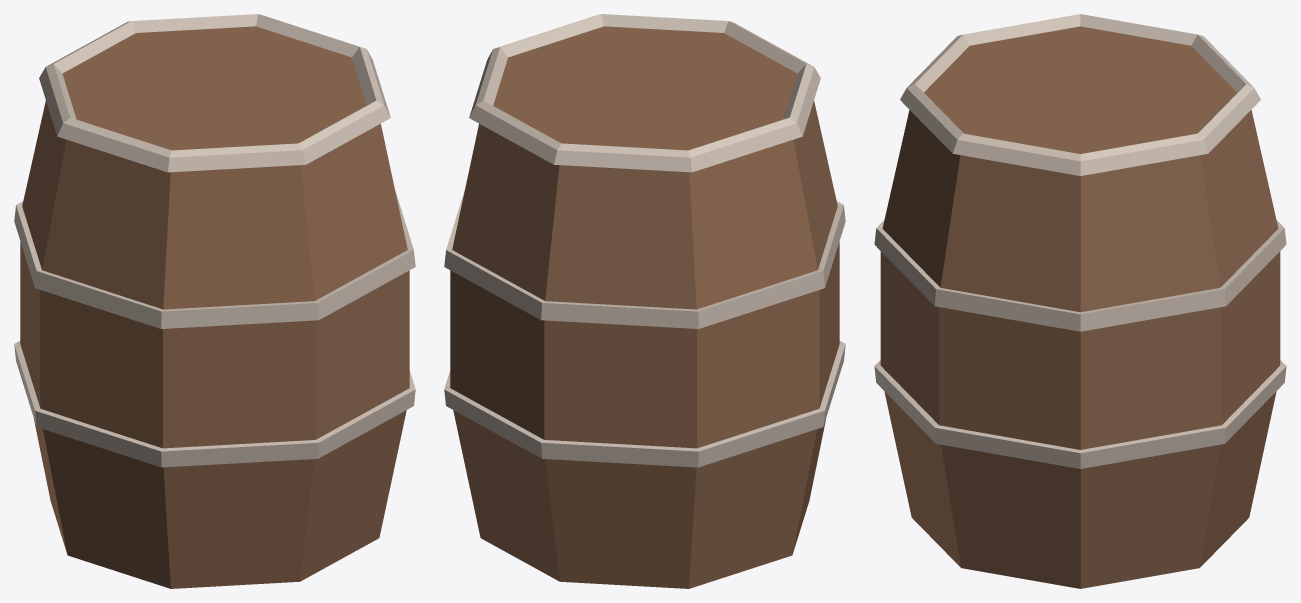
File: Barrel.fbx
The picture shows the model from 3 angles, left to right: view 1: azimuth 30°, elevation 25°; view 2: azimuth 150°, elevation 25°; view 3: azimuth 270°, elevation 25°; orthographic projection.
Parts seen in each view (by area): view 1: Cylinder006; view 2: Cylinder006; view 3: Cylinder006.
Boxes of the visible parts, x1,y1,x2,y2 form: Cylinder006: (14, 14, 415, 588); Cylinder006: (444, 14, 845, 588); Cylinder006: (874, 14, 1286, 588).
Size of the model in its own units: 143 by 166 by 143.
Materials: 1 (1 with a texture image).
